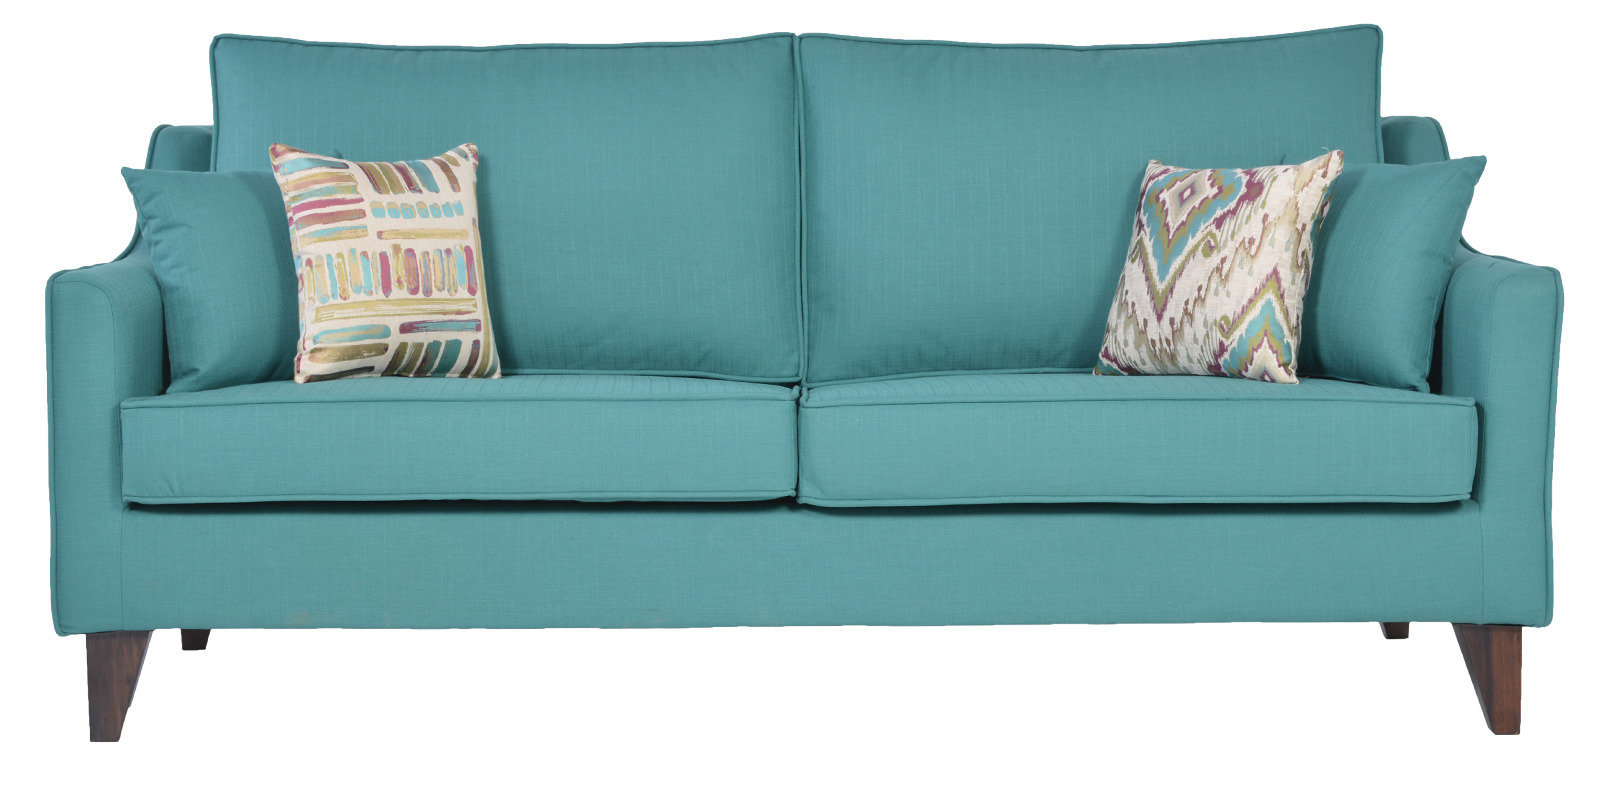Ithaca Impulse Three Seater Sofa with Throw Cushions in Jade Colour by Urban Liv: (31, 16, 1568, 771)
